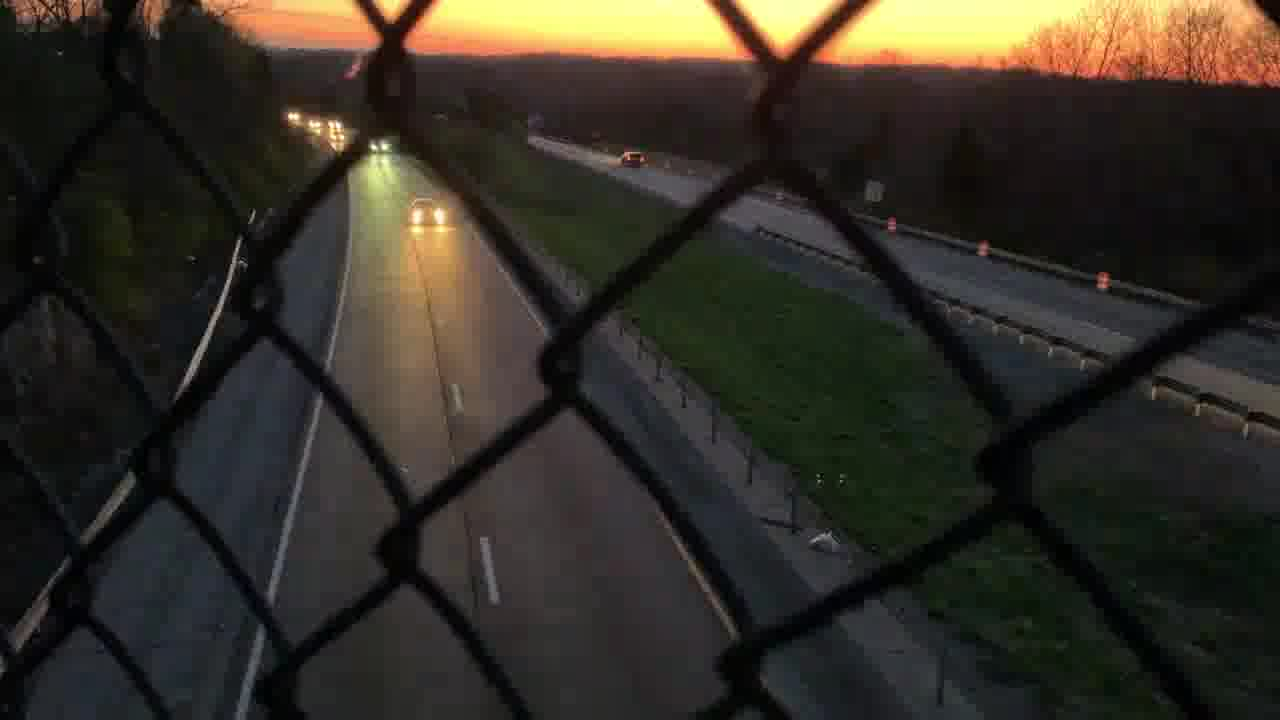largeCar: (616, 149, 649, 170)
smallCar: (401, 193, 449, 230)
